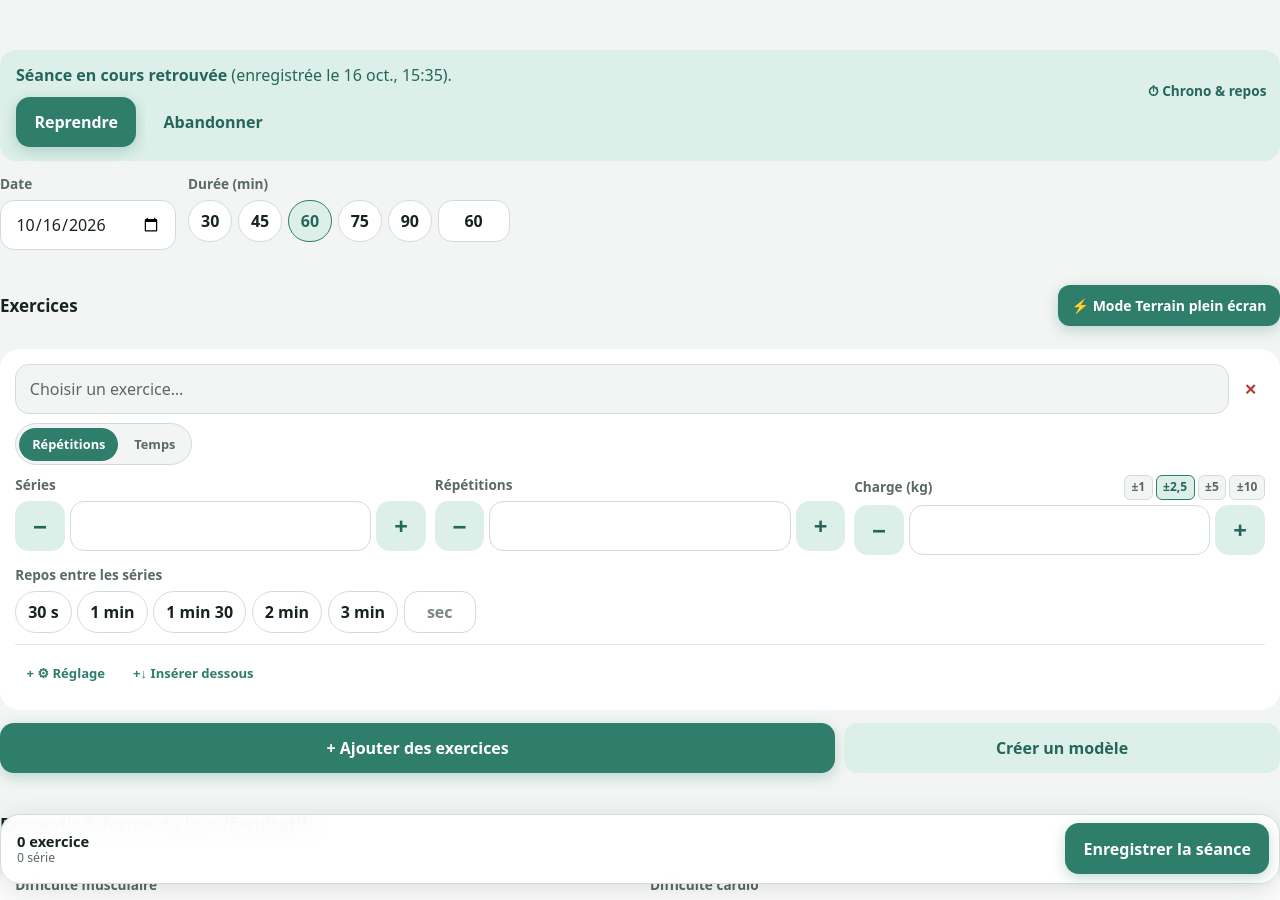
NouvelleSeance - Sauvegarde du brouillon et Mode Terrain ([P1-02]) › scénario audit : basculer en Mode Terrain, ajouter un exercice et vérifier la sauvegarde auto après 700ms
Cliquer sur « ⚡ Mode Terrain plein écran »
Click the button "⚡ Mode Terrain plein écran" at (1169, 306), box 1058,285 -> 1279,326
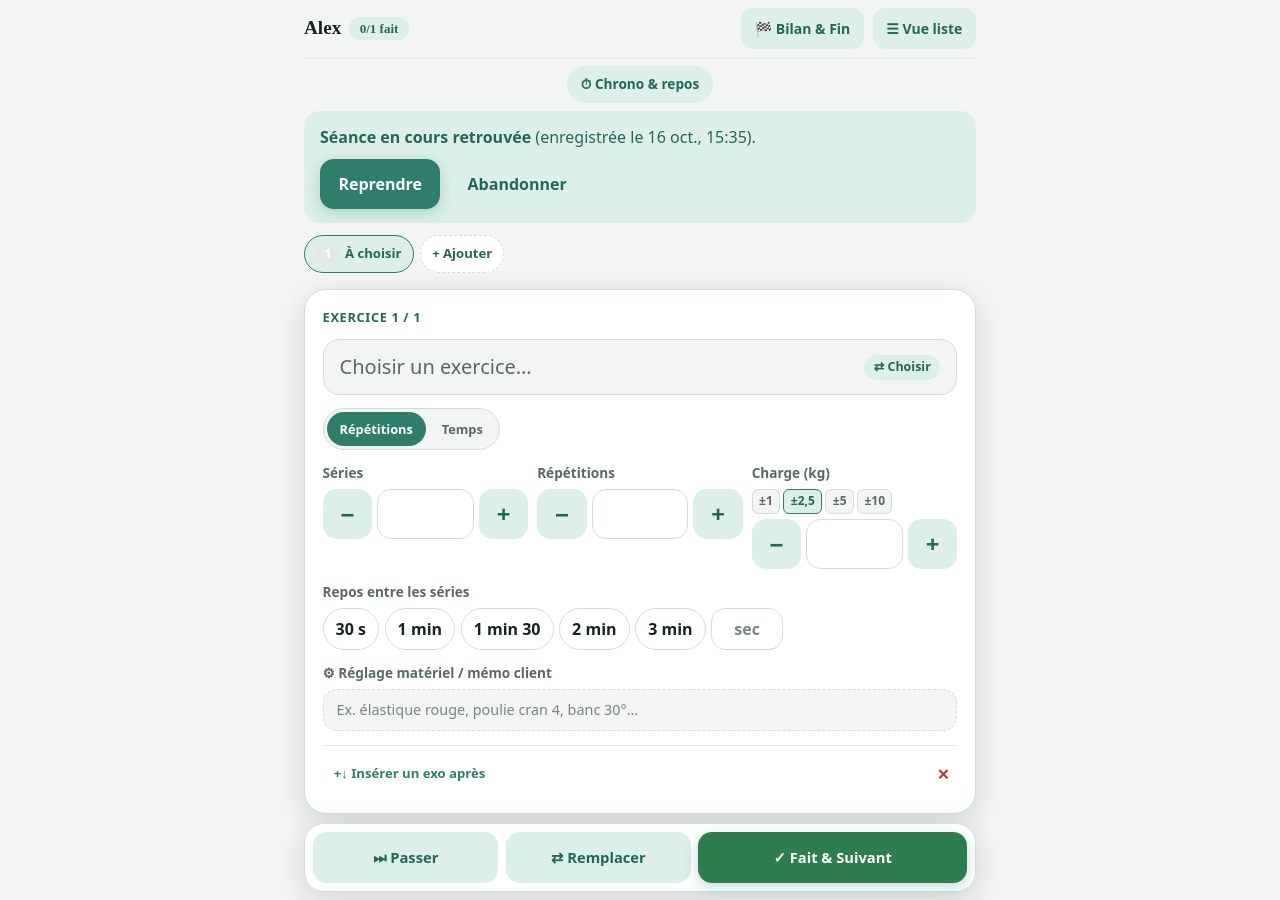
Check: the message is shown, box 304,111 -> 976,223
Check: the text "Séance en cours retrouvée" is shown, box 320,126 -> 531,148
Click the button "+ Ajouter" at (462, 254), box 420,235 -> 504,273
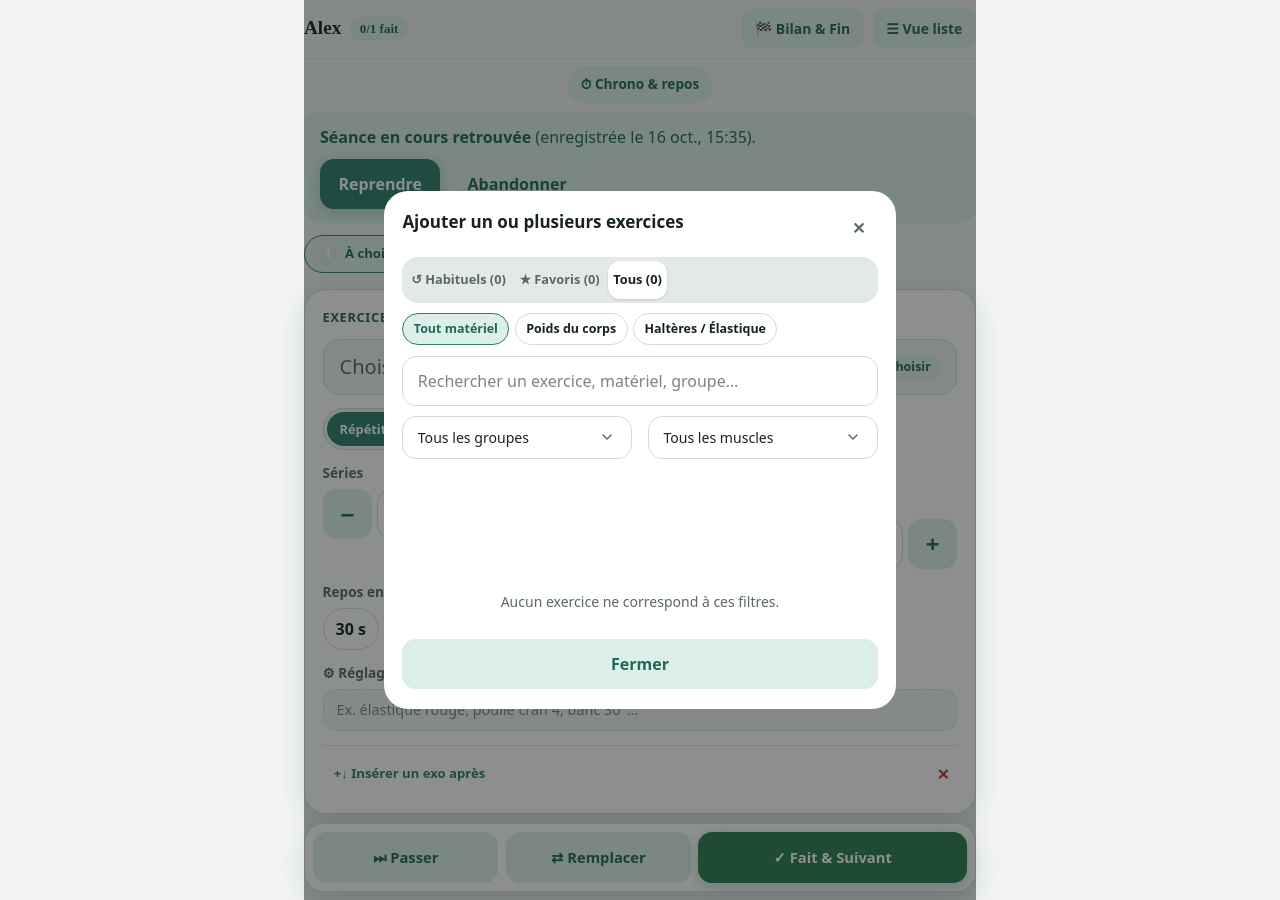
Dans le sélecteur d'exercice, chercher "Développé couché"
Type "Développé couché" into the search field labelled "Rechercher un exercice" at (640, 381), box 402,356 -> 878,406
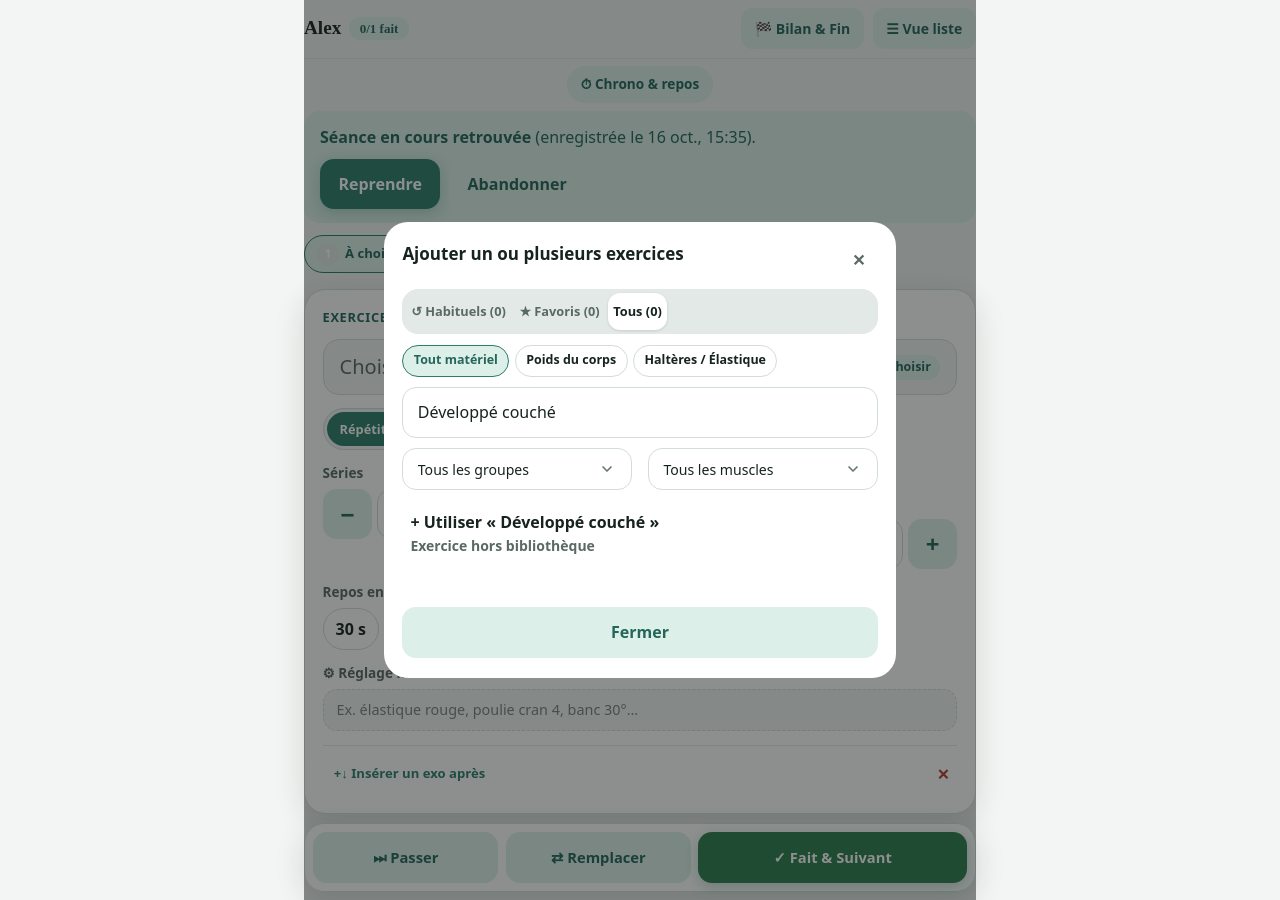
Click the text "+ Utiliser « Développé couché »" at (535, 522), box 410,510 -> 659,534
Wait 700 ms
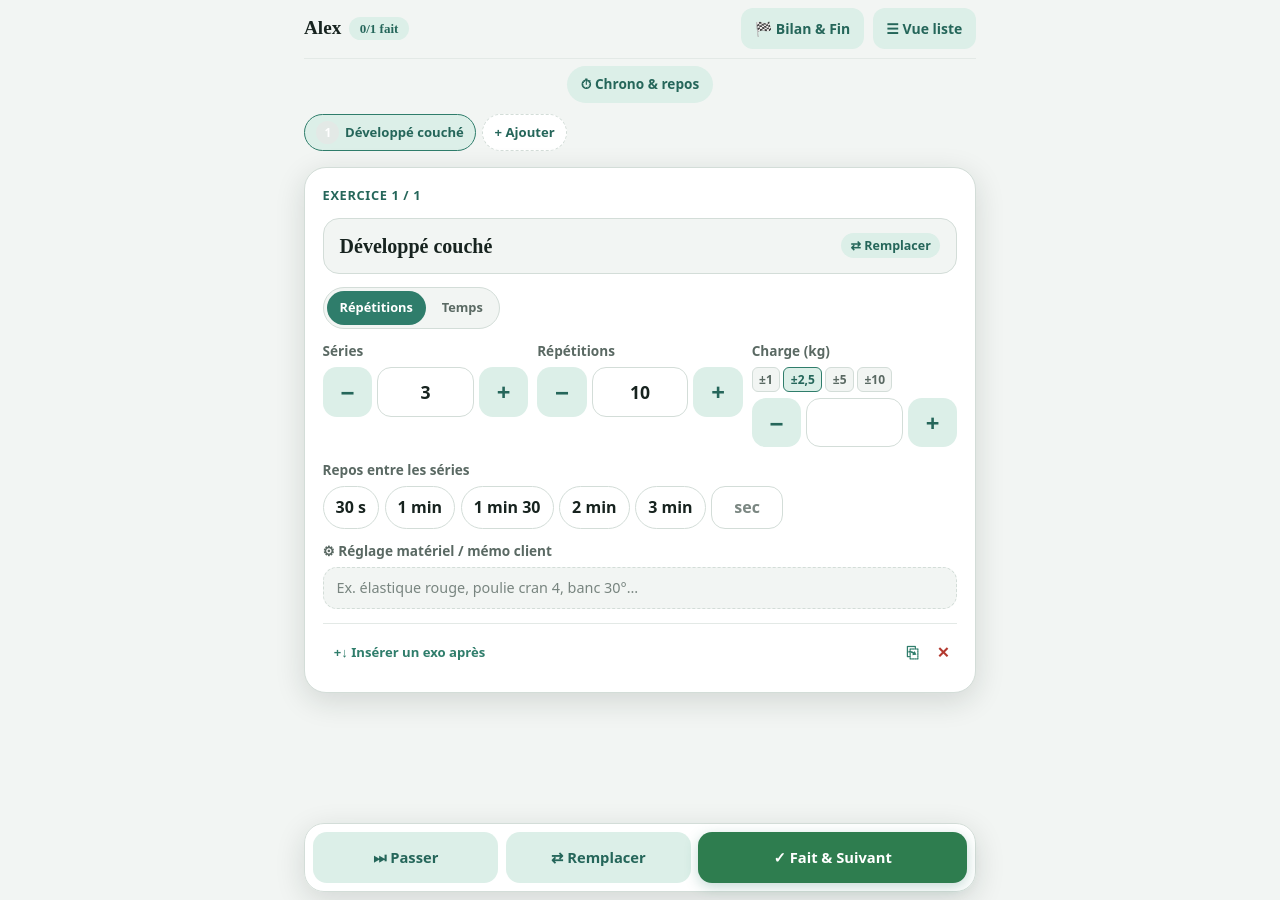
Check: the text "Séance en cours retrouvée" is gone
